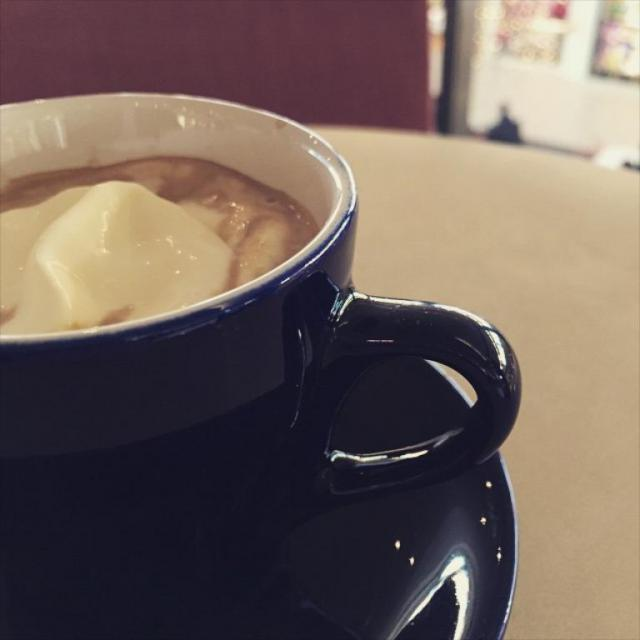Coffee: (0, 153, 319, 326)
